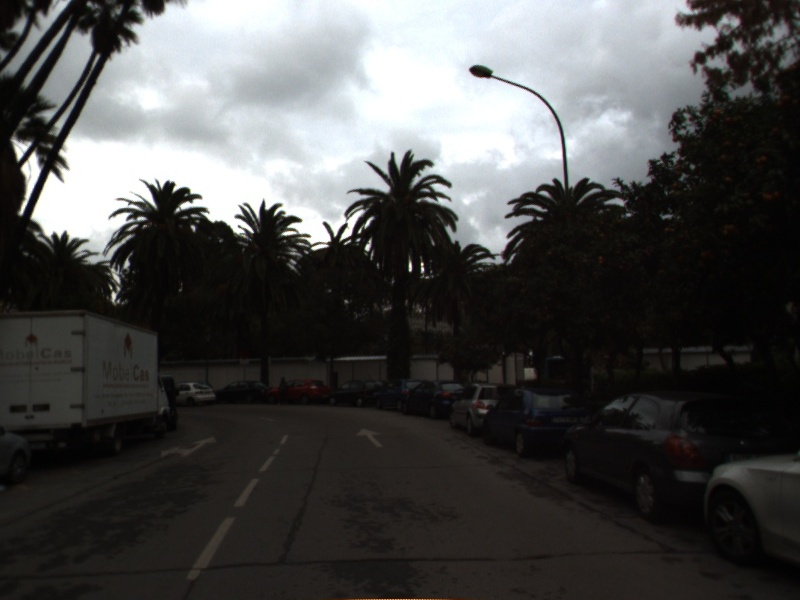STRAIGHT: (354, 426, 386, 449)
STRAIGHT_LEFT: (157, 434, 219, 460)
